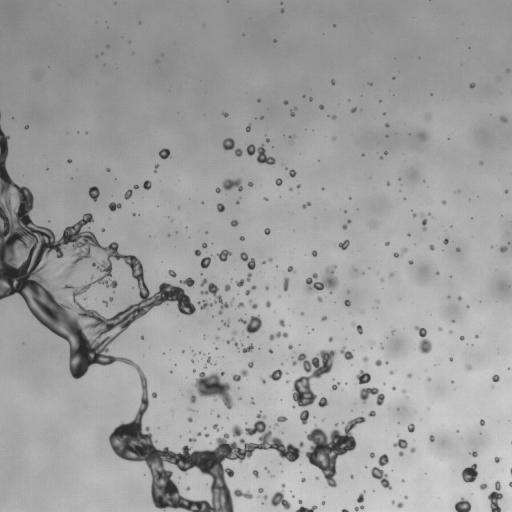droplet: (305, 416, 365, 487), (292, 350, 336, 407), (194, 371, 233, 408), (304, 267, 338, 294), (271, 483, 290, 509), (360, 387, 384, 405), (239, 315, 262, 333), (461, 463, 477, 482), (393, 436, 407, 456), (222, 178, 242, 191), (454, 497, 471, 511), (296, 500, 317, 511), (356, 370, 370, 383), (88, 186, 99, 201), (217, 249, 230, 261), (340, 347, 353, 359), (269, 369, 282, 380), (180, 277, 194, 287), (198, 300, 213, 309), (299, 410, 308, 424), (159, 148, 170, 159), (200, 256, 210, 268), (108, 202, 121, 211), (338, 240, 349, 250), (318, 397, 328, 407), (242, 343, 253, 352), (124, 189, 132, 199), (276, 416, 286, 424), (143, 180, 151, 189), (217, 203, 224, 212), (407, 423, 414, 432), (419, 132, 426, 140), (492, 374, 499, 382), (332, 382, 339, 390), (221, 320, 230, 326), (275, 178, 282, 185), (168, 270, 175, 277), (302, 202, 310, 208), (230, 220, 238, 226), (190, 395, 196, 403), (479, 483, 487, 489), (500, 116, 507, 122), (289, 170, 295, 177), (200, 279, 206, 286), (224, 284, 230, 291), (368, 410, 375, 416), (470, 451, 477, 457), (252, 470, 258, 477), (264, 228, 270, 234), (500, 246, 506, 252), (194, 249, 200, 255), (344, 300, 350, 306), (375, 360, 381, 366), (213, 424, 219, 430), (397, 502, 403, 508), (393, 252, 400, 257), (237, 302, 244, 307), (279, 319, 284, 326), (206, 357, 211, 364), (429, 435, 434, 442), (443, 238, 448, 244), (312, 250, 317, 256), (245, 289, 250, 295), (234, 342, 239, 348), (248, 361, 253, 367), (369, 452, 374, 458), (494, 457, 500, 462), (246, 124, 250, 131), (351, 107, 356, 112), (215, 188, 220, 193), (429, 245, 434, 250), (402, 248, 407, 253), (288, 266, 293, 271), (317, 296, 322, 301), (103, 300, 108, 305), (321, 316, 326, 321), (466, 365, 471, 370), (258, 488, 263, 493), (290, 110, 294, 116), (266, 301, 270, 307), (480, 419, 484, 425), (189, 438, 195, 442), (469, 83, 474, 87), (248, 182, 253, 186), (202, 243, 206, 248), (261, 378, 265, 383), (152, 392, 156, 397), (188, 417, 192, 422), (410, 448, 415, 452), (301, 477, 305, 482), (319, 105, 323, 109), (223, 112, 227, 116), (24, 125, 28, 129), (442, 200, 446, 204), (240, 236, 244, 240), (353, 268, 357, 272), (389, 272, 393, 276), (251, 285, 255, 289), (457, 296, 461, 300), (328, 337, 332, 341), (460, 336, 464, 340), (288, 345, 292, 349), (363, 357, 367, 361), (407, 373, 411, 377), (264, 467, 268, 471), (186, 486, 190, 490), (263, 495, 267, 499), (133, 185, 138, 188), (371, 222, 376, 225), (250, 399, 253, 404), (331, 80, 334, 84), (284, 100, 287, 104), (385, 123, 388, 127), (504, 190, 508, 193), (385, 242, 389, 245), (409, 260, 412, 264), (109, 297, 112, 301), (269, 349, 272, 353), (427, 377, 430, 381), (401, 390, 405, 393), (205, 433, 208, 437), (266, 138, 269, 141), (384, 151, 387, 154), (68, 159, 71, 162), (386, 182, 389, 185), (297, 185, 300, 188), (264, 197, 267, 200), (413, 213, 416, 216), (420, 213, 423, 216), (456, 248, 459, 251), (265, 286, 268, 289), (438, 327, 441, 330), (475, 335, 478, 338), (390, 371, 393, 374), (286, 380, 289, 383), (197, 432, 200, 435), (506, 69, 509, 71), (309, 98, 312, 100), (332, 116, 335, 118), (107, 168, 109, 171), (236, 201, 239, 203), (233, 331, 235, 334), (391, 331, 394, 333), (216, 336, 218, 339), (449, 358, 452, 360), (392, 387, 395, 389), (335, 423, 337, 426), (350, 475, 353, 477), (321, 502, 324, 504), (281, 9, 283, 11), (258, 99, 260, 101), (289, 188, 291, 190), (269, 259, 271, 261), (262, 261, 264, 263), (371, 343, 373, 345), (191, 360, 193, 362), (405, 496, 407, 498)
ligament: (0, 127, 303, 511), (201, 283, 232, 314), (371, 454, 391, 489), (246, 144, 275, 164), (414, 326, 431, 354), (488, 481, 502, 511), (222, 138, 242, 156), (240, 252, 255, 269), (236, 272, 251, 286), (232, 369, 247, 381), (269, 332, 287, 340), (353, 323, 362, 334), (357, 491, 365, 503), (342, 219, 351, 229), (283, 277, 289, 291), (249, 300, 257, 309), (422, 218, 427, 230), (355, 505, 364, 511), (227, 337, 234, 342), (154, 164, 158, 172), (341, 509, 348, 511), (509, 481, 511, 487), (510, 468, 511, 474)
